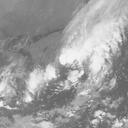cyclone: (62, 29, 110, 70)
